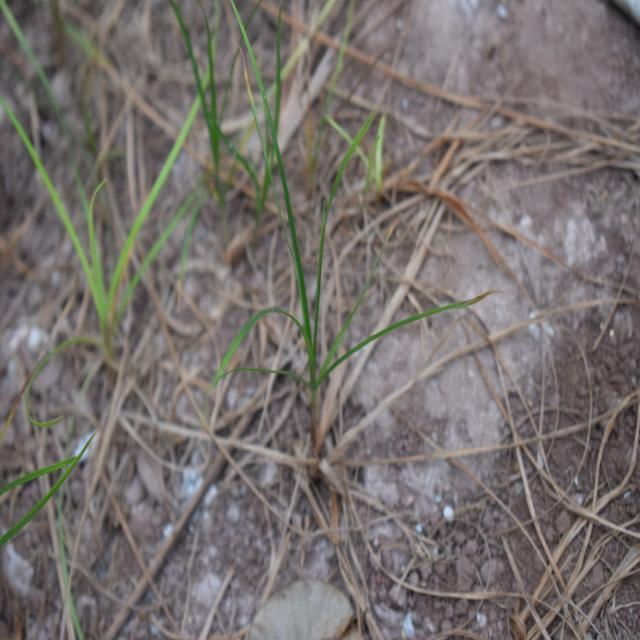sedge: (185, 53, 454, 508)
